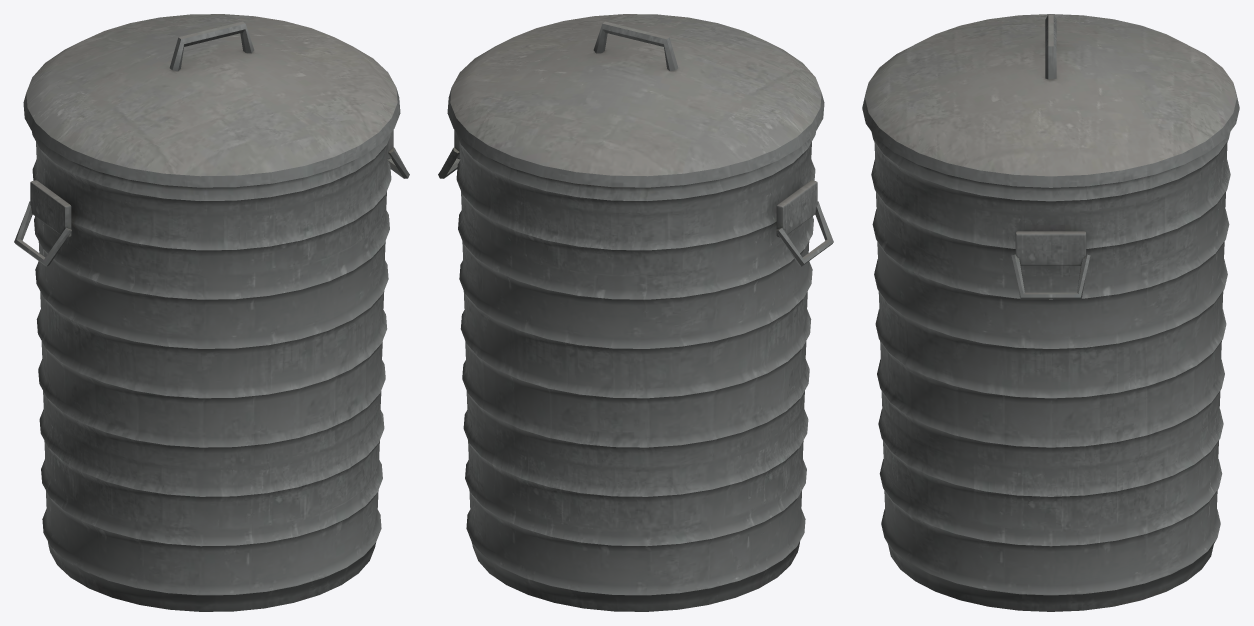
File: garage_trash_can.glb
The picture shows the model from 3 angles, left to right: view 1: azimuth 30°, elevation 25°; view 2: azimuth 150°, elevation 25°; view 3: azimuth 270°, elevation 25°; orthographic projection.
Visible parts, largest first — view 1: trash_can; view 2: trash_can; view 3: trash_can.
Boxes of the visible parts, left/top/right/bottom form: trash_can: left=14, top=14, right=409, bottom=611; trash_can: left=438, top=14, right=833, bottom=611; trash_can: left=862, top=14, right=1239, bottom=611.
Size of the model in its own units: 0.5954 by 0.7965 by 0.532.
1 material, 1 textured.
